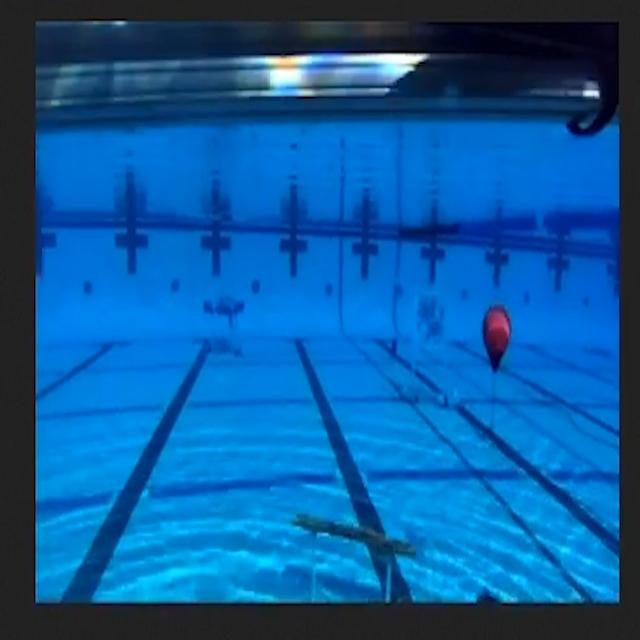Buoy: (484, 305, 515, 370)
